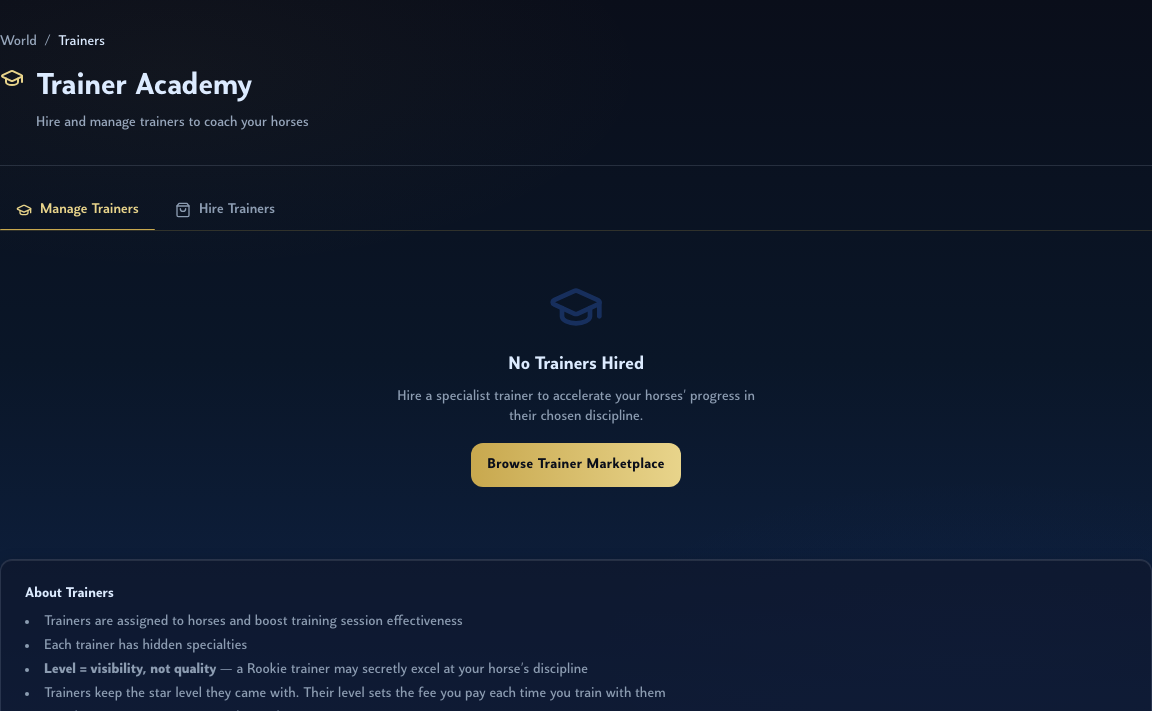
TrainersPage — manage/hire tab switch (Equoria-o5hub.30) › clicking the Hire tab shows the trainer marketplace list
The width and height of the screenshot is (1152, 711).
Expected: the element with test id "no-trainers-state" is shown, [397,279,755,487]
Click the tab with test id "hire-tab" at (225, 210), box [159,190,291,230]
(page scrolled)
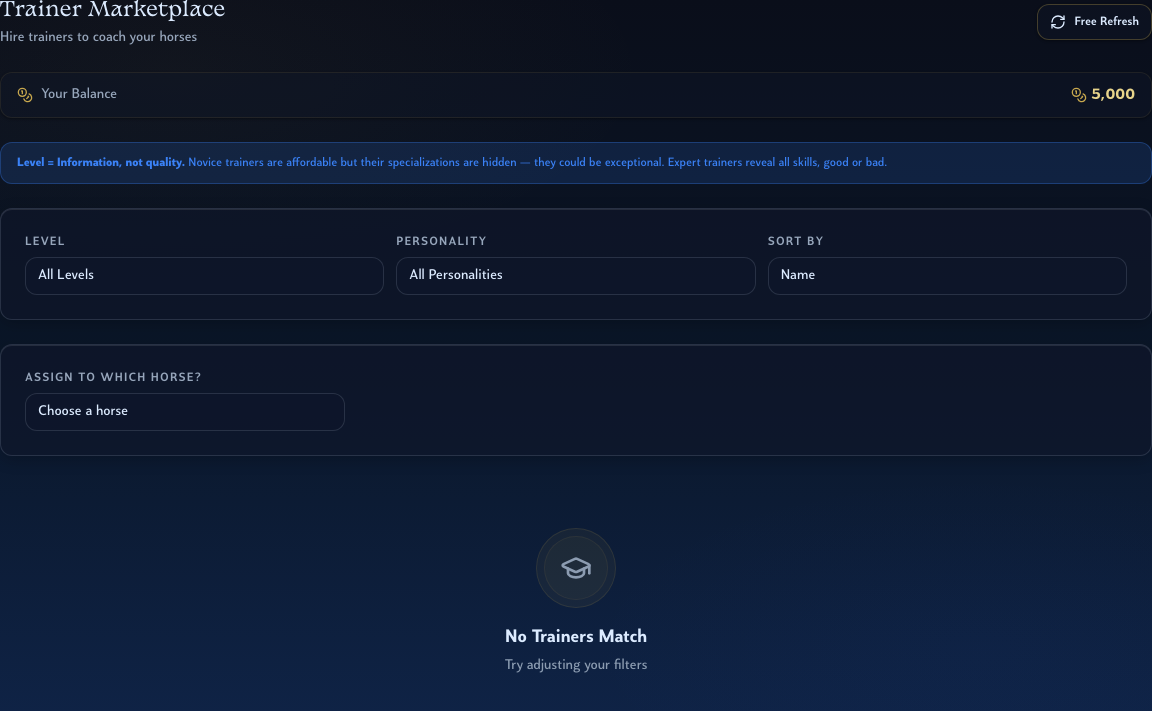
Expected: the element with test id "no-trainers-state" is gone
